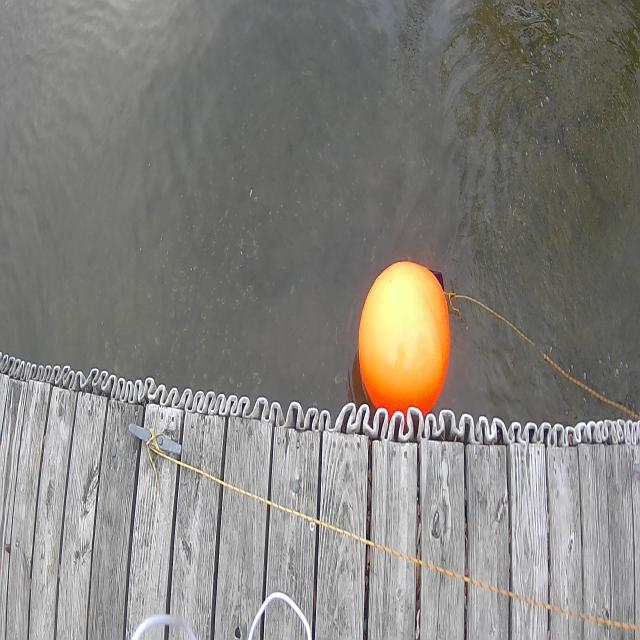Buoy: (350, 244, 456, 418)
